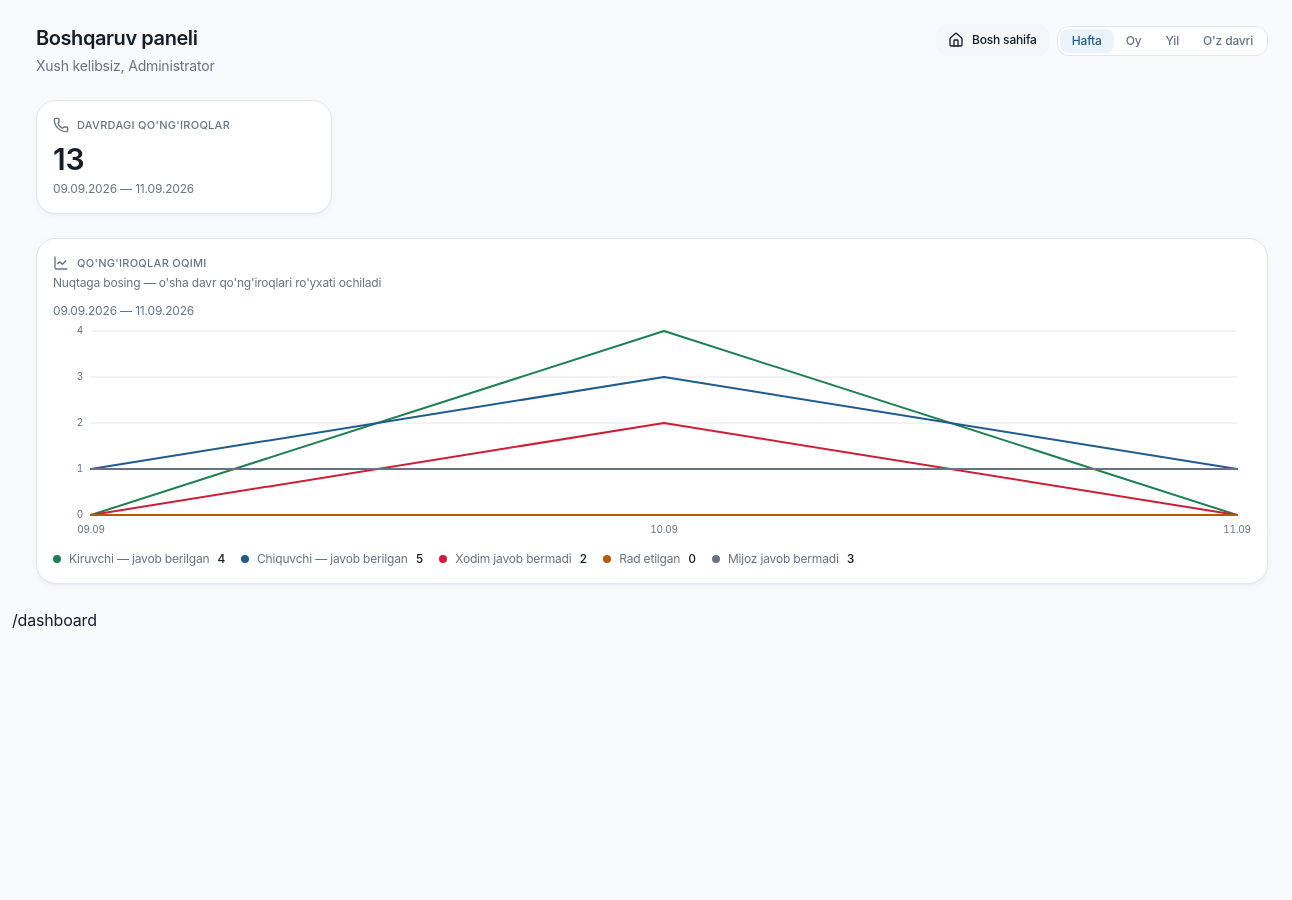
it: a range the reader picks themselves › drops the dates when a preset is chosen again
This screenshot has width=1292, height=900.
Check: the text "Qo'ng'iroqlar oqimi" is shown, box top-left (53, 255), bottom-right (207, 271)
Step 1. Click the button "O'z davri" → x=1228, y=41, box top-left (1191, 29), bottom-right (1265, 53)
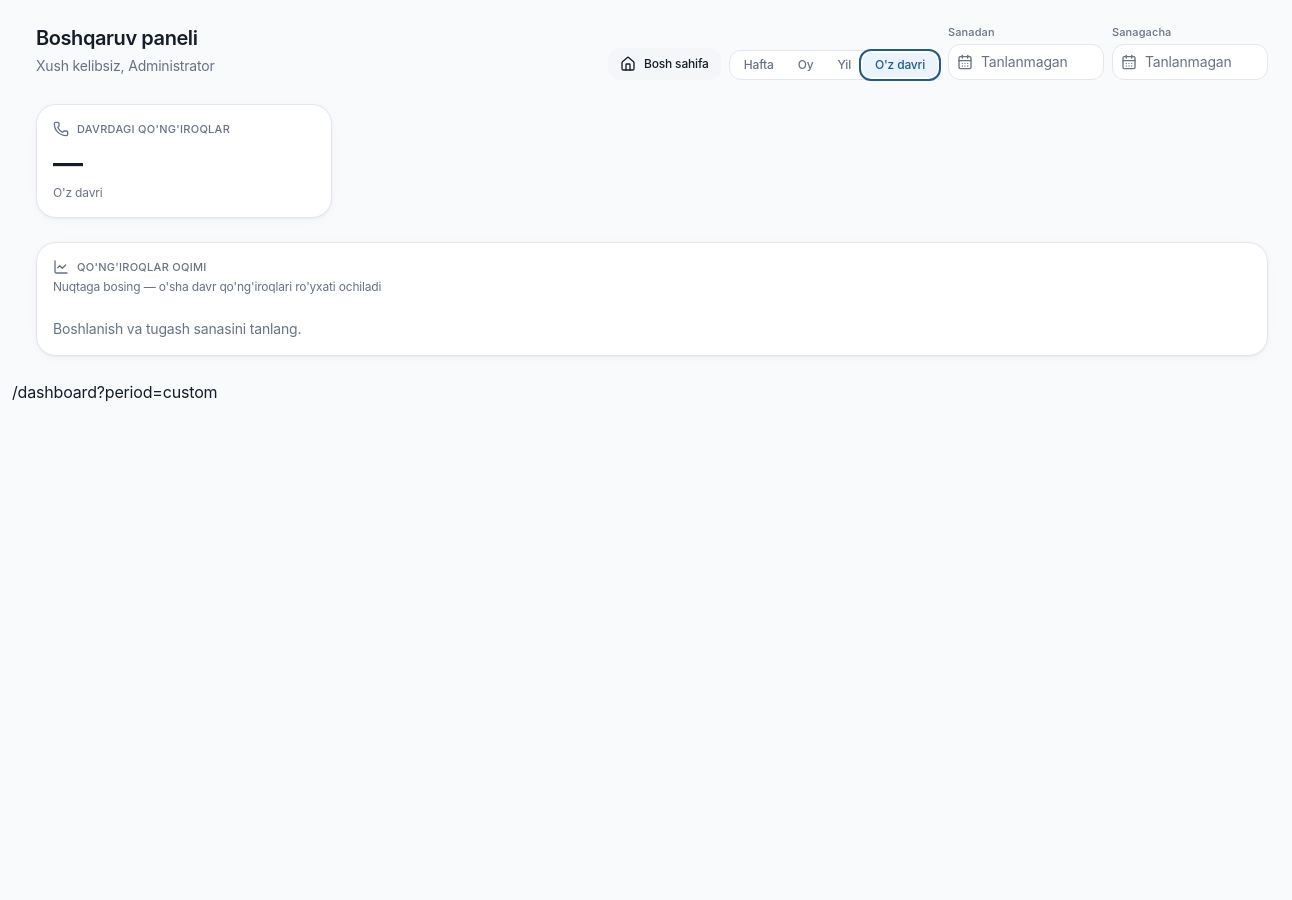
Step 2. Type "2026-09-01" into the date field named "Sanadan" → x=1027, y=62, box top-left (977, 45), bottom-right (1077, 79)
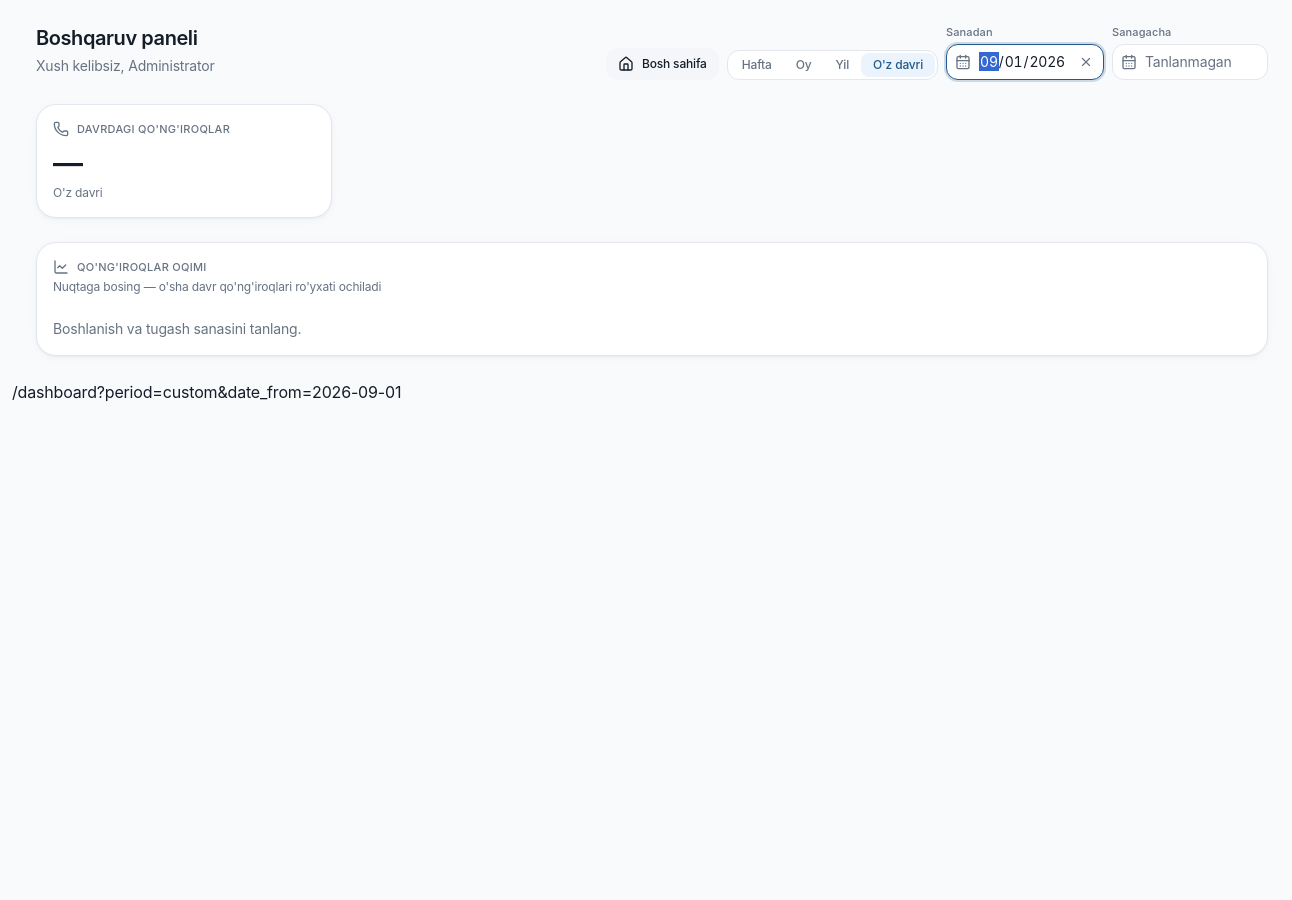
Step 3. Type "2026-09-11" into the date field named "Sanagacha" → x=1191, y=62, box top-left (1141, 45), bottom-right (1241, 79)
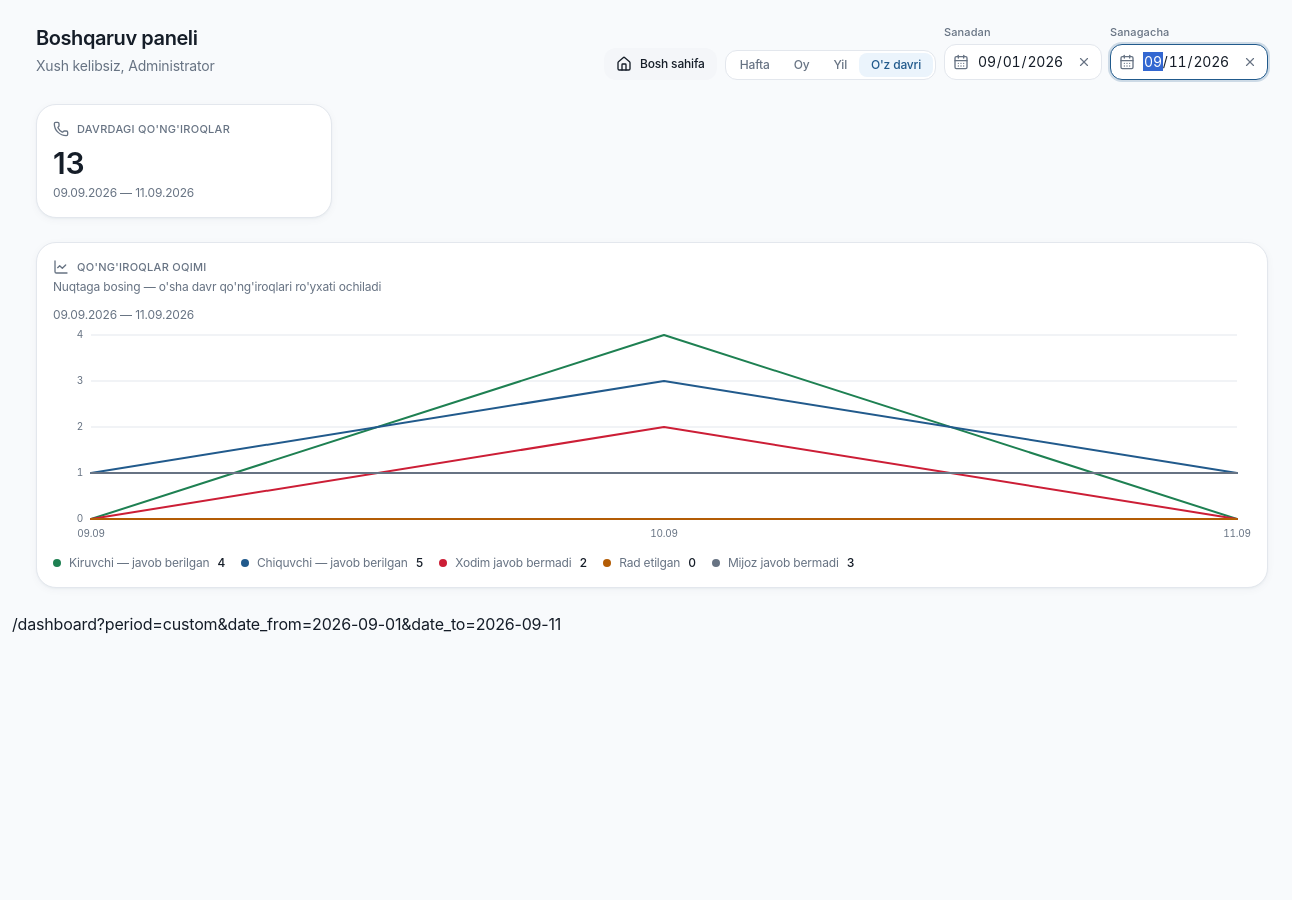
Step 4. Click the button "Oy" → x=802, y=65, box top-left (782, 53), bottom-right (822, 77)
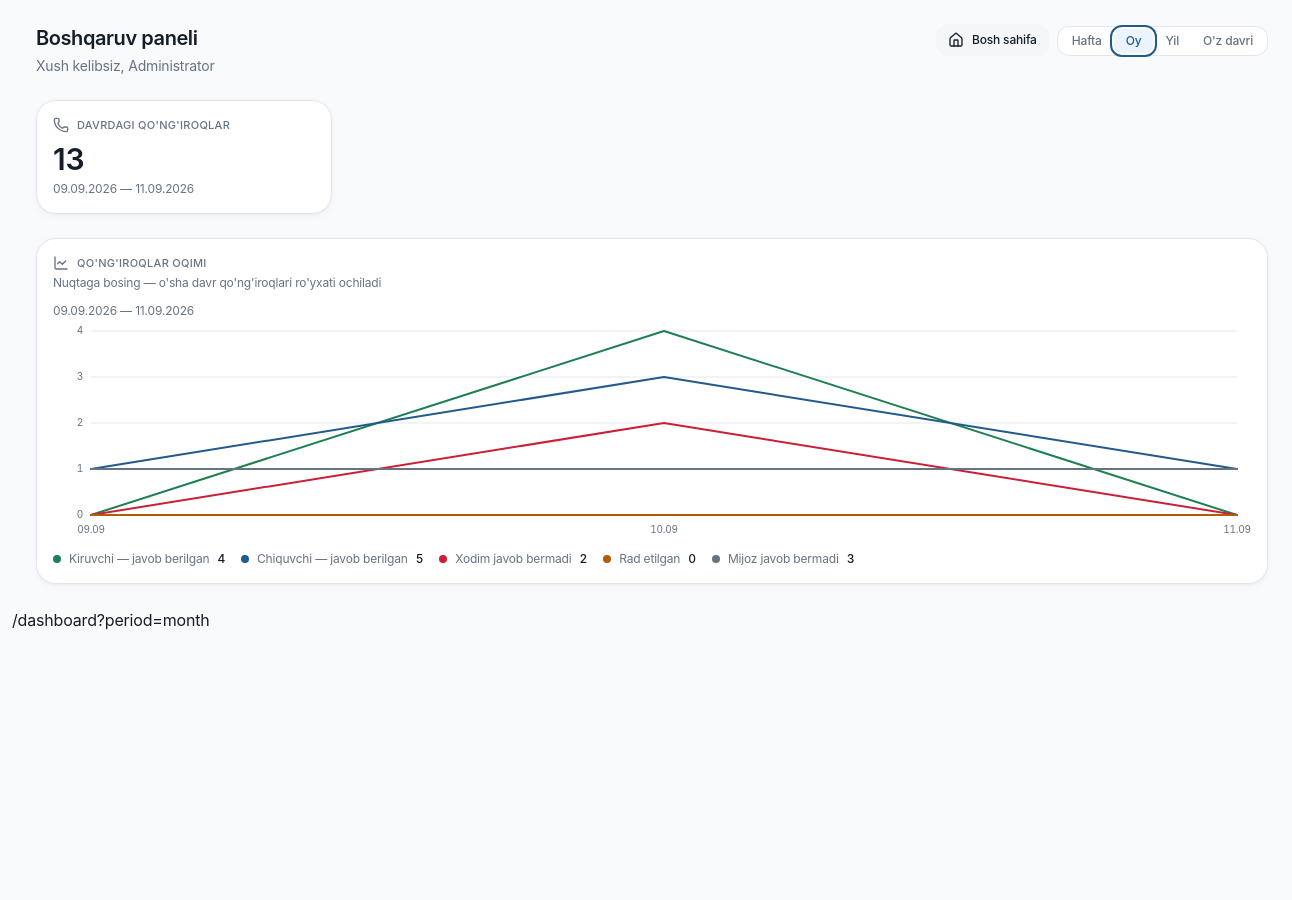
Check: the text labelled "Sanadan" is gone
